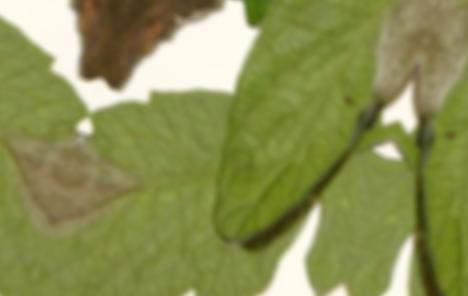Tomato leaf late blight: (19, 16, 403, 296), (180, 0, 449, 278), (60, 0, 312, 249)
